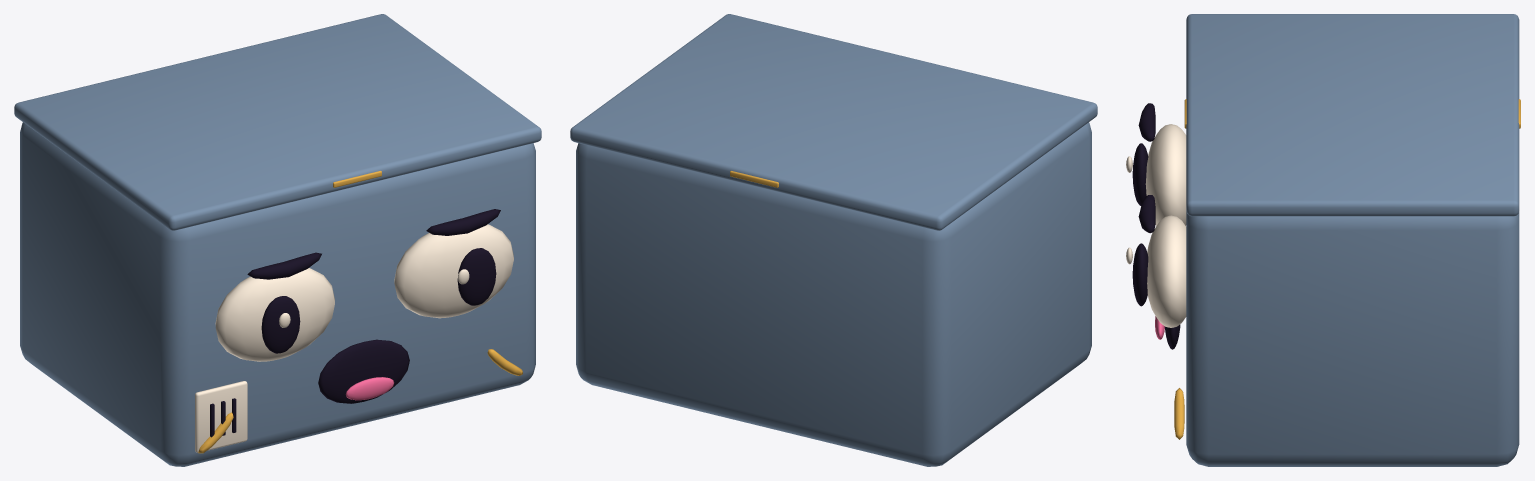
File: caixa_paranoica.glb
3 renders of one model, left to right at view 1: azimuth 30°, elevation 25°; view 2: azimuth 150°, elevation 25°; view 3: azimuth 270°, elevation 25°, orthographic. The views are drawn at different scales.
Visible parts, largest first — view 1: CartonBody, LidFold, eye white.001, eye white, boca animável, ShippingLabel, Pupil, Pupil.001, Brow, Brow.001, Tongue; view 2: CartonBody, LidFold; view 3: CartonBody, LidFold, eye white.001, eye white, Pupil.001, Pupil, Brow, Brow.001, TapeCross.001.
Boxes of the visible parts, bbox=[...] form: CartonBody: bbox=[20, 122, 535, 466]; LidFold: bbox=[14, 14, 541, 230]; eye white.001: bbox=[394, 224, 513, 318]; eye white: bbox=[215, 268, 334, 361]; boca animável: bbox=[318, 339, 409, 403]; ShippingLabel: bbox=[195, 381, 247, 452]; Pupil: bbox=[261, 296, 300, 353]; Pupil.001: bbox=[457, 248, 496, 305]; Brow: bbox=[247, 252, 321, 279]; Brow.001: bbox=[426, 209, 500, 235]; Tongue: bbox=[345, 377, 394, 400]; CartonBody: bbox=[576, 122, 1091, 466]; LidFold: bbox=[570, 14, 1097, 230]; CartonBody: bbox=[1186, 211, 1519, 466]; LidFold: bbox=[1186, 14, 1519, 216]; eye white.001: bbox=[1147, 215, 1186, 327]; eye white: bbox=[1145, 124, 1186, 225]; Pupil.001: bbox=[1132, 243, 1148, 306]; Pupil: bbox=[1132, 143, 1148, 205]; Brow: bbox=[1138, 103, 1155, 141]; Brow.001: bbox=[1138, 195, 1155, 233]; TapeCross.001: bbox=[1174, 388, 1184, 439].
Bounding box in the file's own units: 0.65 × 0.4325 × 0.5695.
